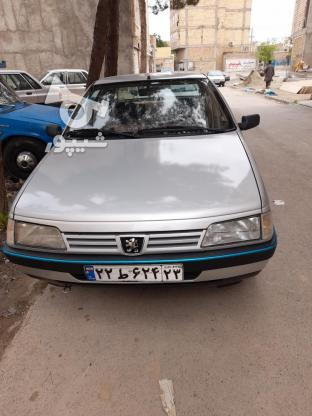car: (83, 262, 184, 284)
